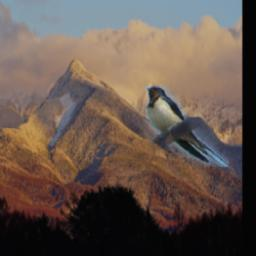Swallow: (147, 87, 230, 168)
